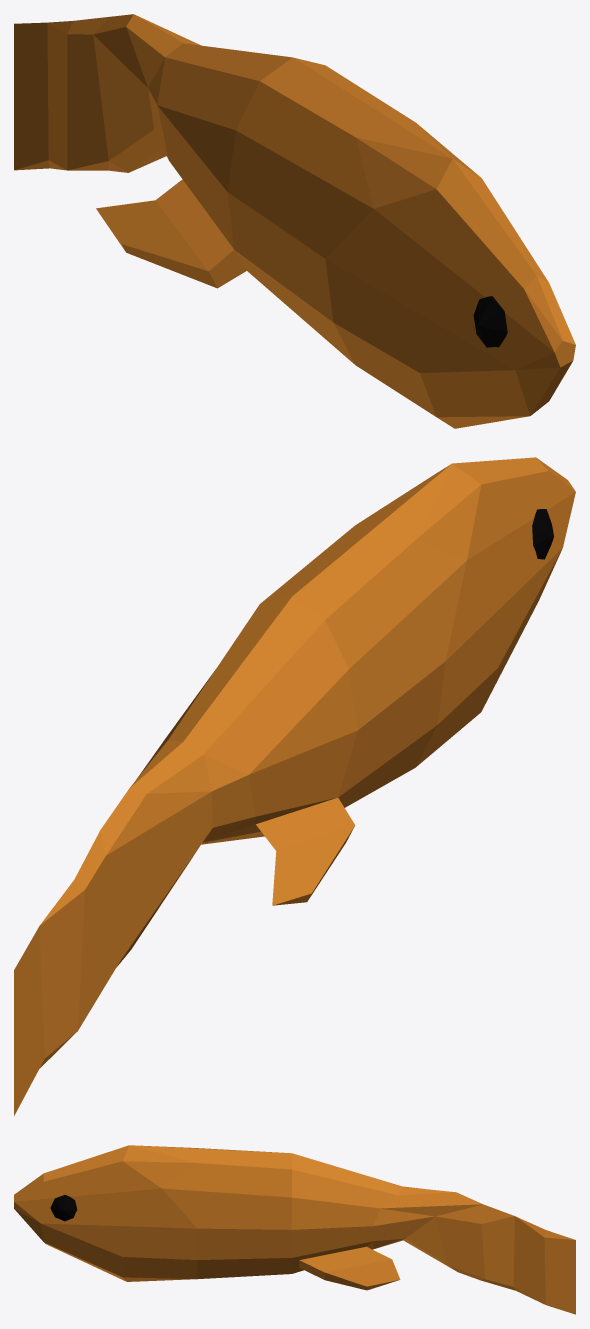
File: Fish 2.fbx
3 views of the same model, one above another, from view 1: azimuth 30°, elevation 25°; view 2: azimuth 150°, elevation 25°; view 3: azimuth 270°, elevation 25° (orthographic). The views are drawn at different scales.
Visible parts, largest first — view 1: Fish 2; view 2: Fish 2; view 3: Fish 2.
Part boxes in pixels (bbox=[...]): Fish 2: bbox=[14, 14, 575, 428]; Fish 2: bbox=[14, 457, 575, 1115]; Fish 2: bbox=[14, 1145, 575, 1314].
Bounding box in the file's own units: 1.43 × 2.53 × 7.6.
